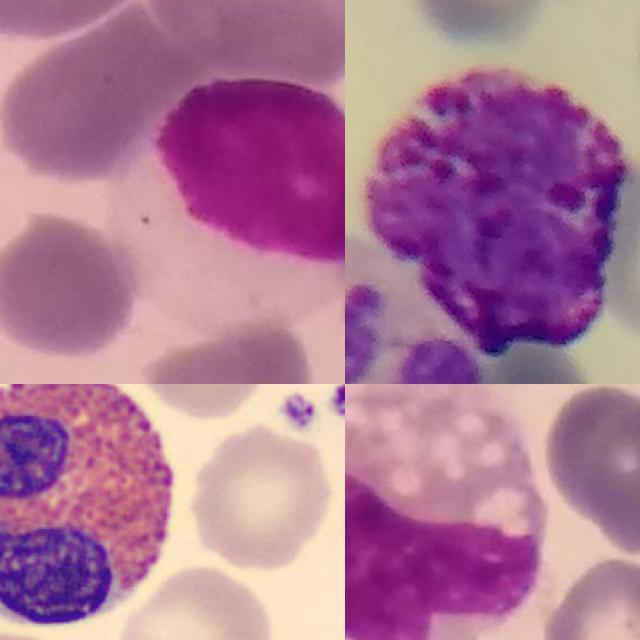Basophil: (365, 66, 635, 358)
Eosinophil: (0, 384, 193, 640), (345, 229, 487, 384)
Lymphocyte: (101, 77, 345, 330)
Monocyte: (345, 384, 546, 640)
Platelets: (274, 388, 322, 434), (326, 384, 345, 423)
RBC: (185, 421, 339, 573), (113, 562, 278, 640), (133, 384, 266, 425)
